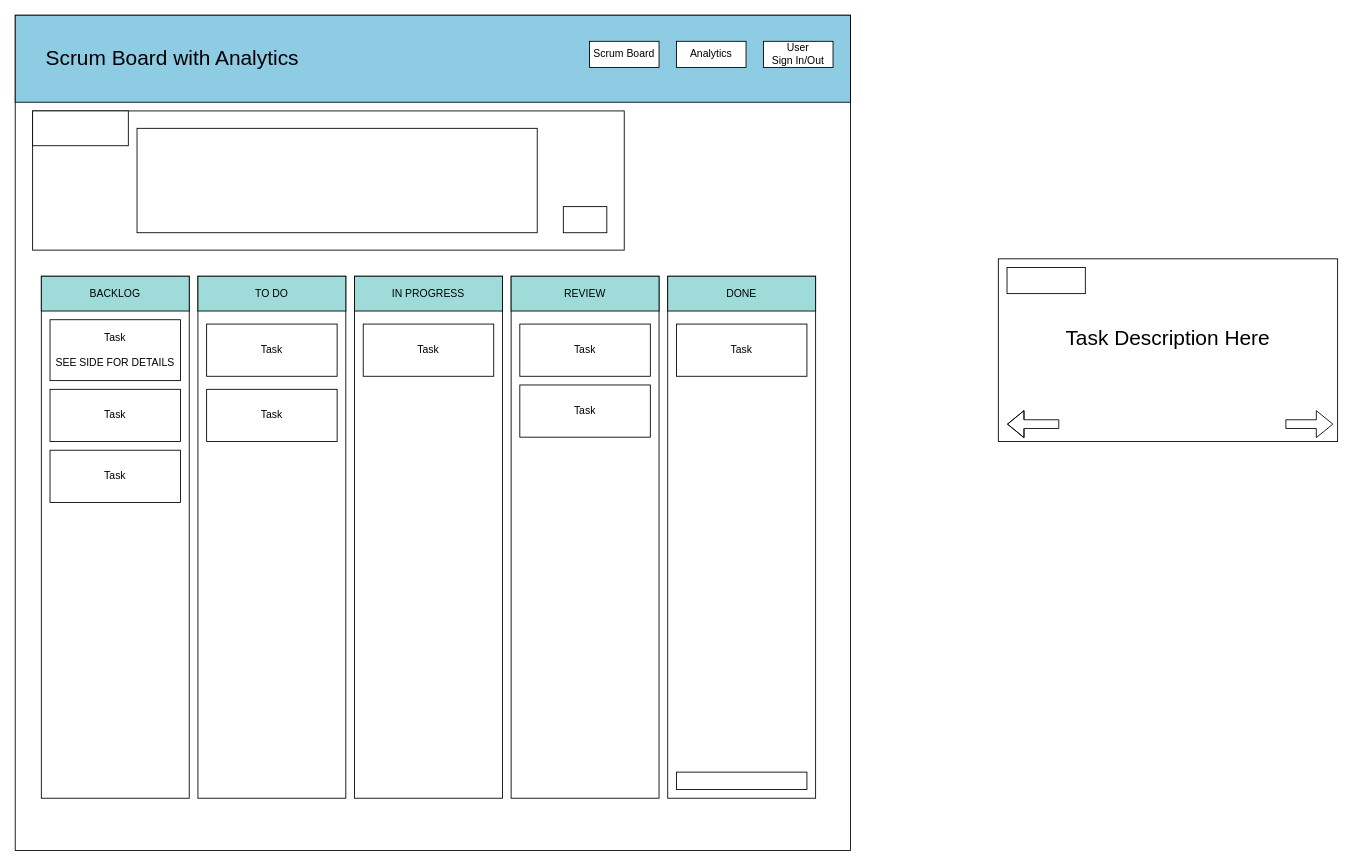
This 1353x866 diagram has some shape labels left out. The centre of each missing label's shape, as x and y in pixels:
"Archive Completed Tasks" goes at point 741,780.
"Create New Task" goes at point 80,128.
"New Task Form" goes at point 336,180.
"Owners?" goes at point 1045,280.
"Post" goes at point 584,219.
